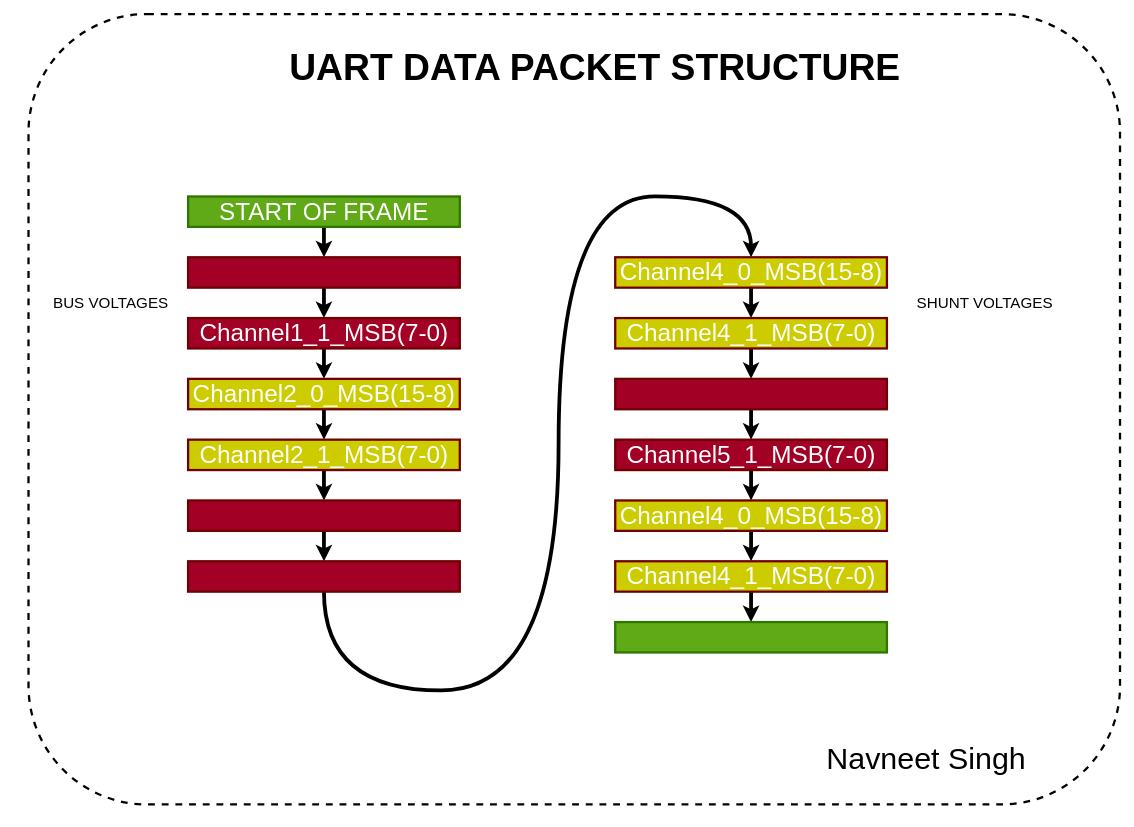
Image size: 1134x827. Some labels were removed from this diagram. The shapes that lost their labels are listed below. From the top down, each one's centre as x and y in pixels, then its label:
At point (324, 272): "Channel1_0_MSB(15-8)".
At point (751, 393): "Channel5_0_MSB(15-8)".
At point (324, 515): "Channel3_0_MSB(15-8)".
At point (324, 576): "Channel3_1_MSB(7-0)".
At point (751, 637): "END OF FRAME".
